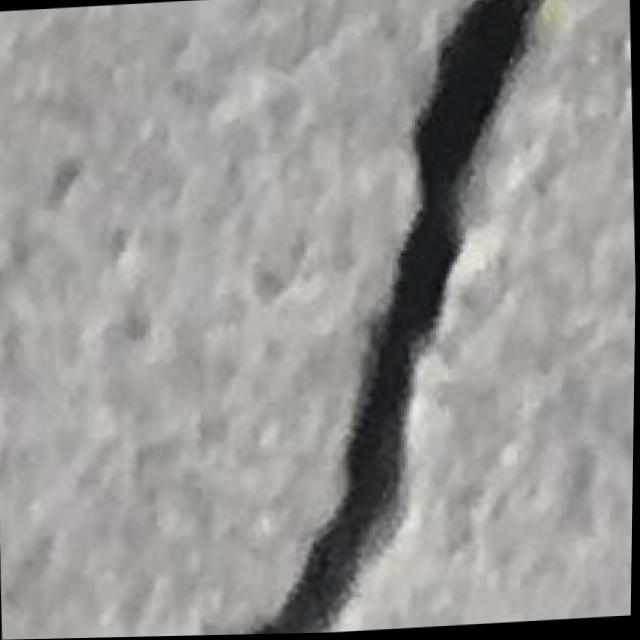Crack: (227, 0, 583, 636)
